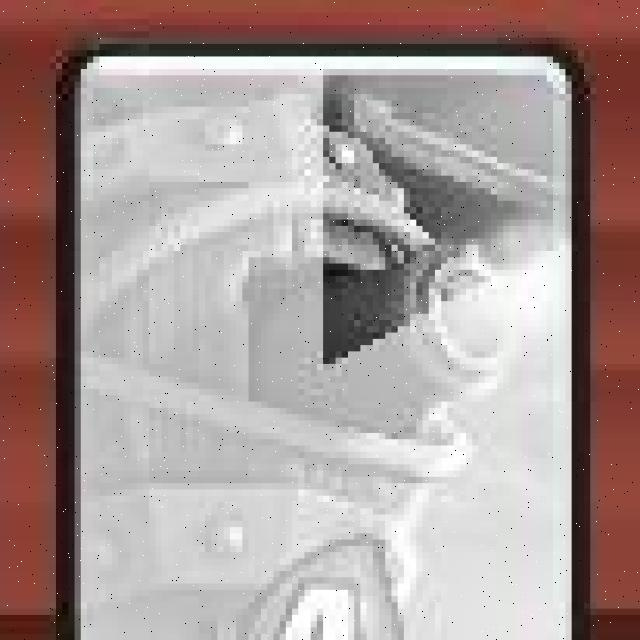Flying_Machine: (55, 44, 588, 640)
